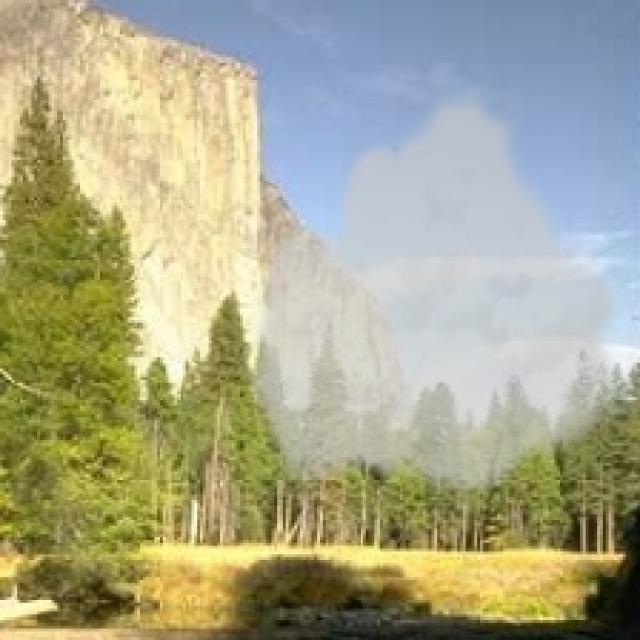smoke: (246, 83, 631, 500)
